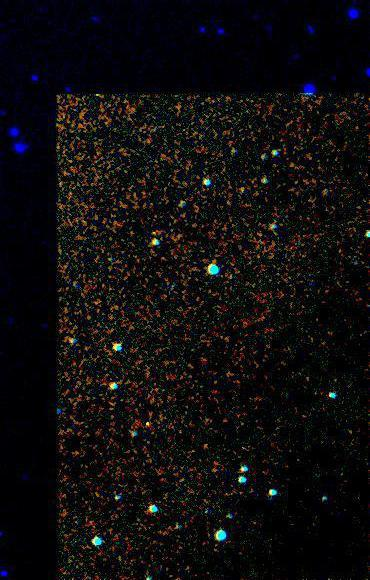star: (131, 409, 161, 439)
